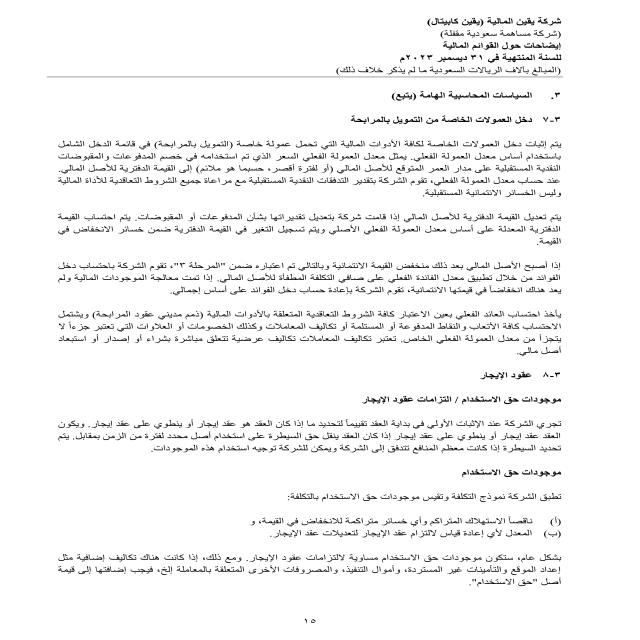notes: (424, 40, 570, 54)
text: (21, 86, 578, 588)
